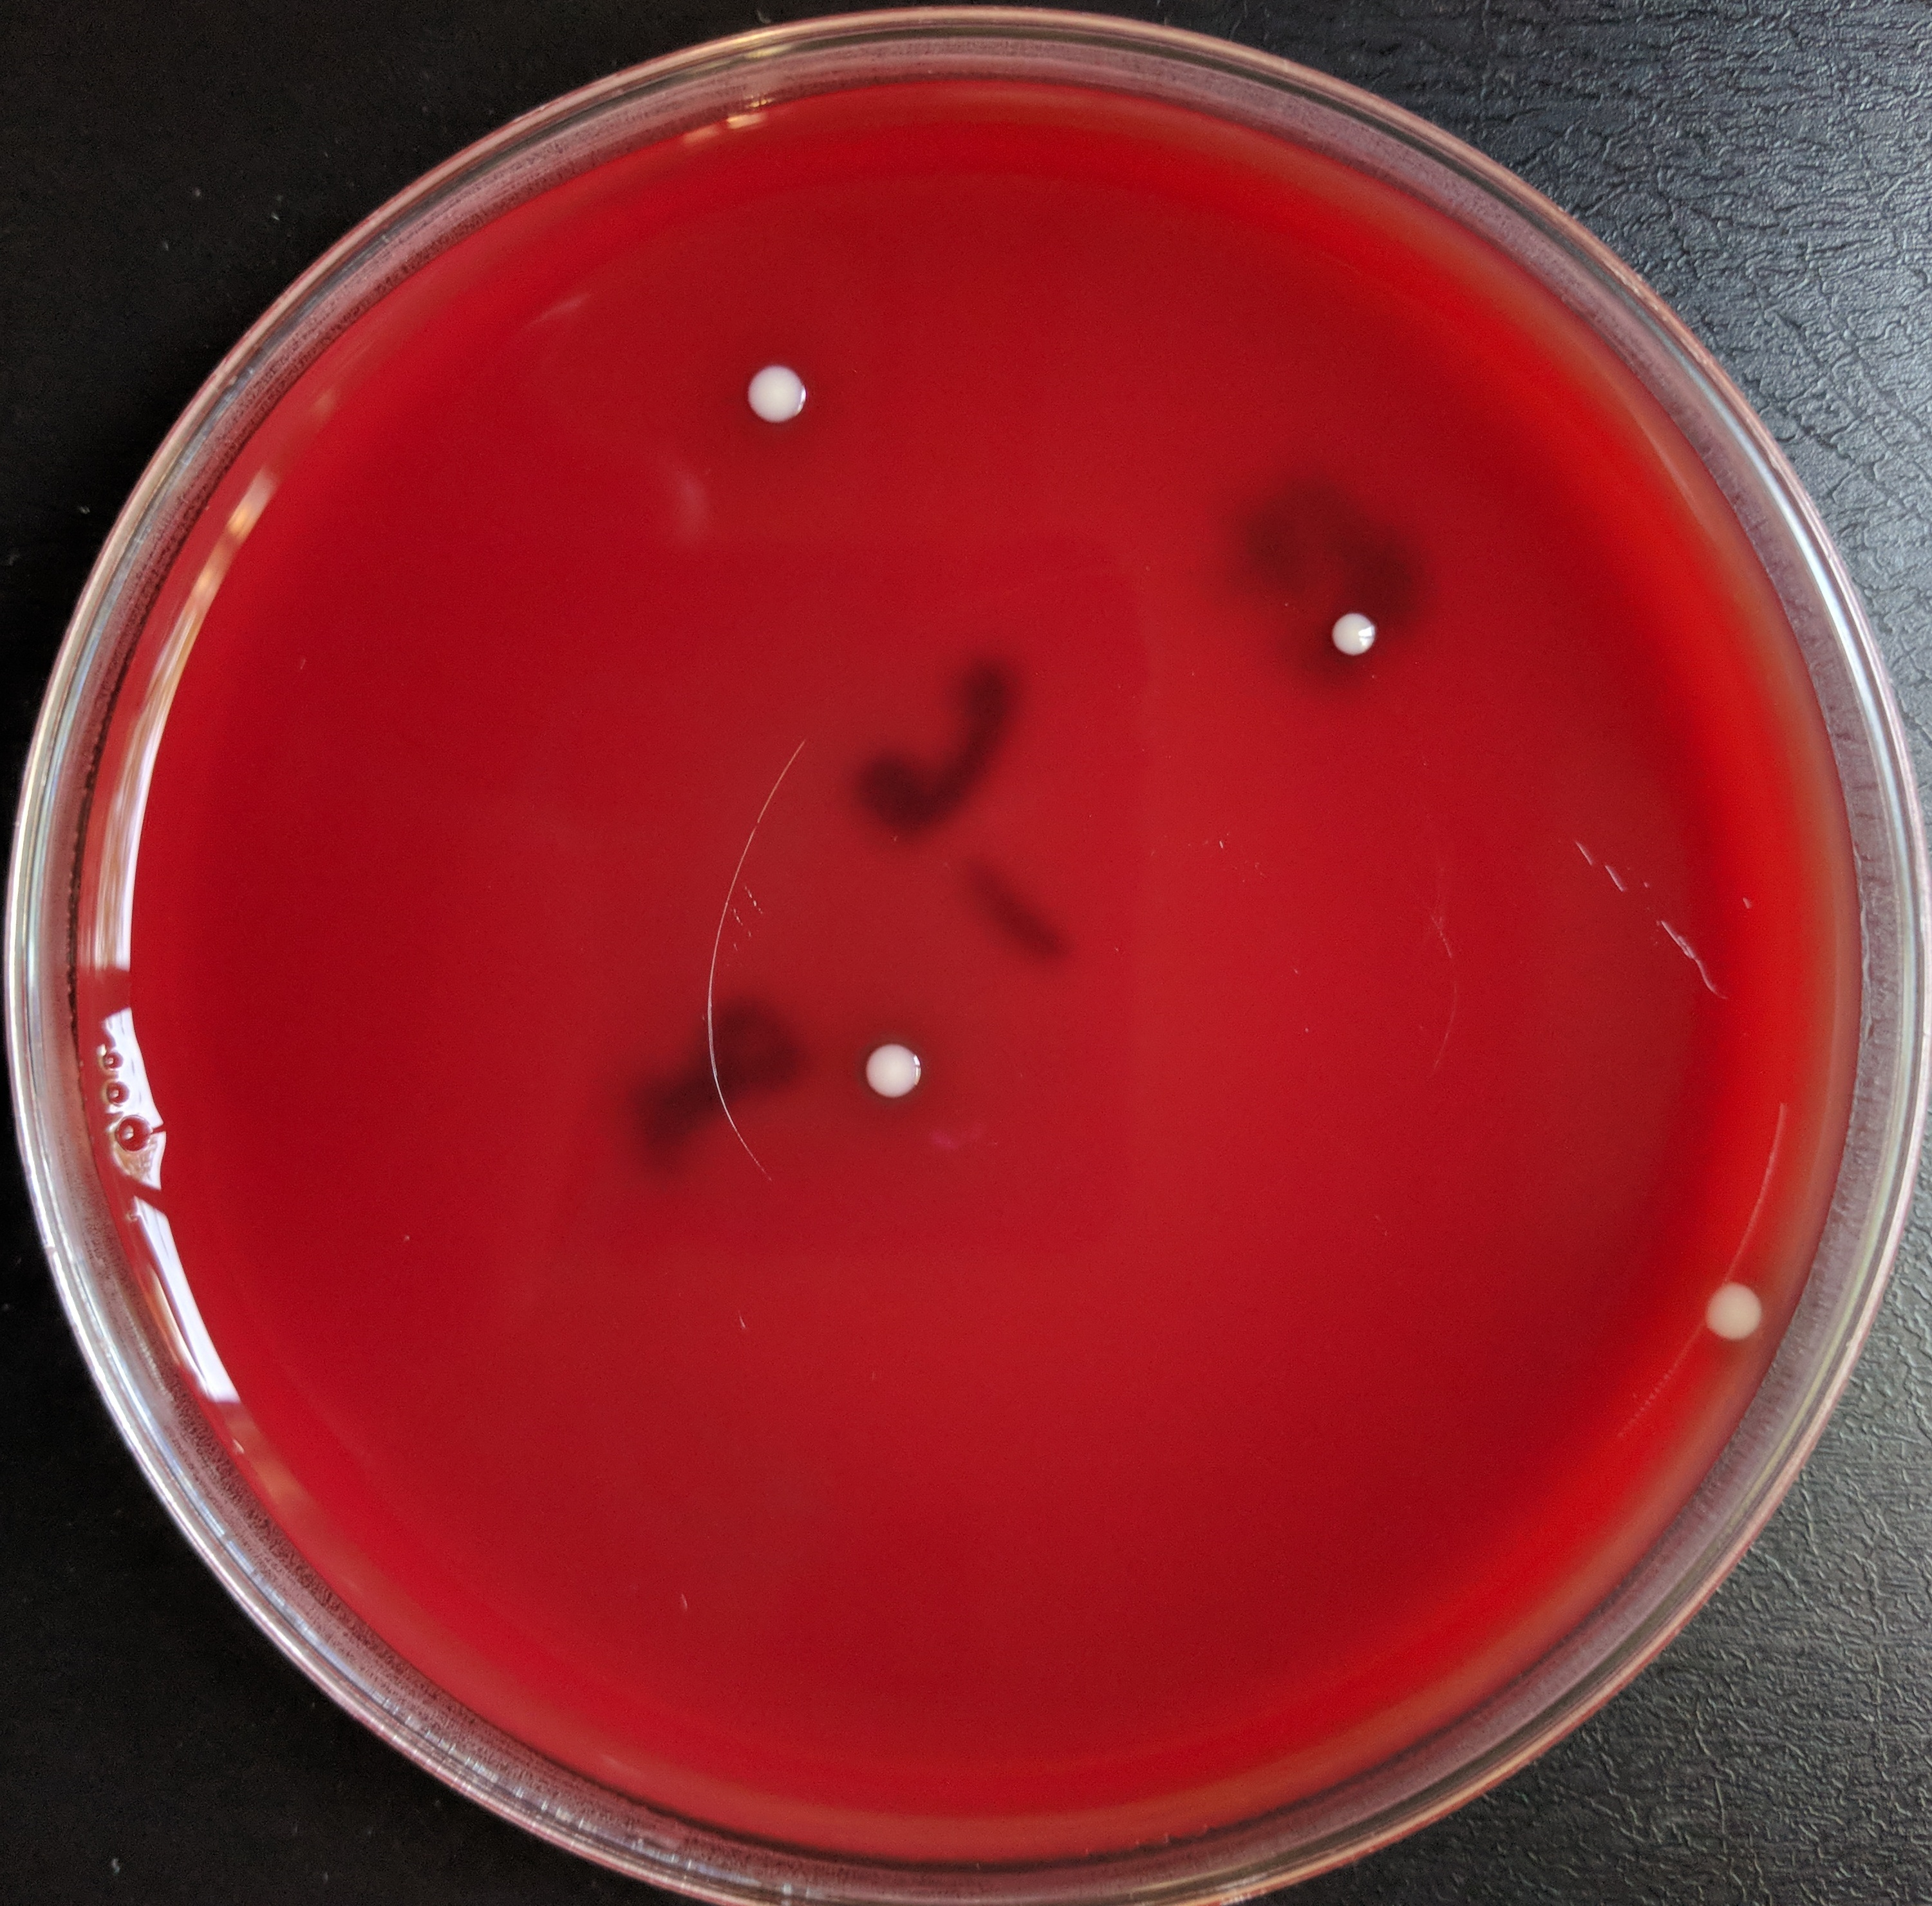sp01: (730, 342, 826, 443), (1309, 585, 1393, 677), (1674, 1269, 1771, 1344), (846, 1030, 941, 1105)
